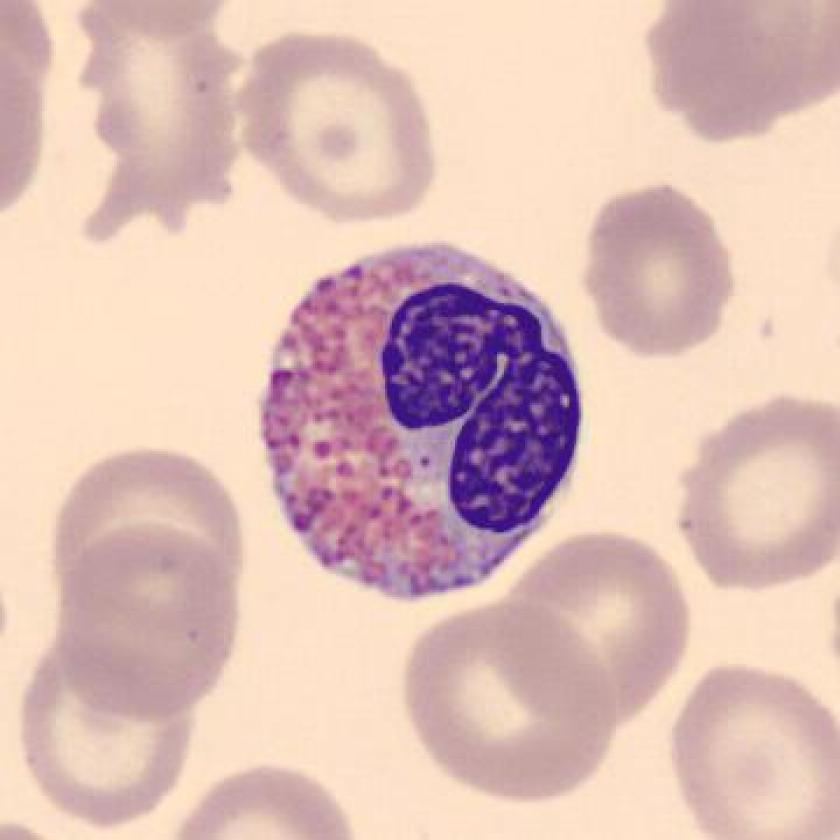eosinophil: (248, 230, 596, 619)
